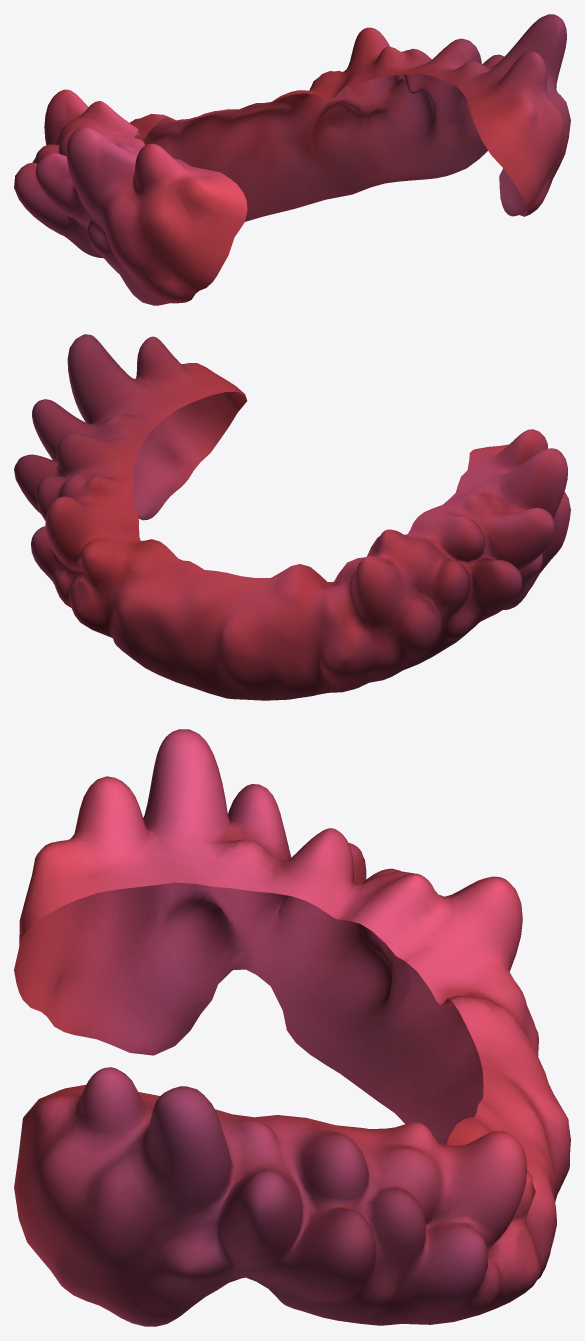
The model's file is Mad.glb.
The picture shows the model from 3 angles, top to bottom: view 1: azimuth 30°, elevation 25°; view 2: azimuth 150°, elevation 25°; view 3: azimuth 270°, elevation 25°; orthographic projection. The views are drawn at different scales.
Visible parts, largest first — view 1: Mad_low; view 2: Mad_low; view 3: Mad_low.
Part boxes in pixels (x1,y1,x2,y2): Mad_low: (14,14,570,305); Mad_low: (14,334,570,700); Mad_low: (14,729,570,1326).
Size of the model in its own units: 0.0172 by 0.00728 by 0.0102.
Materials: 1 (1 with a texture image).
